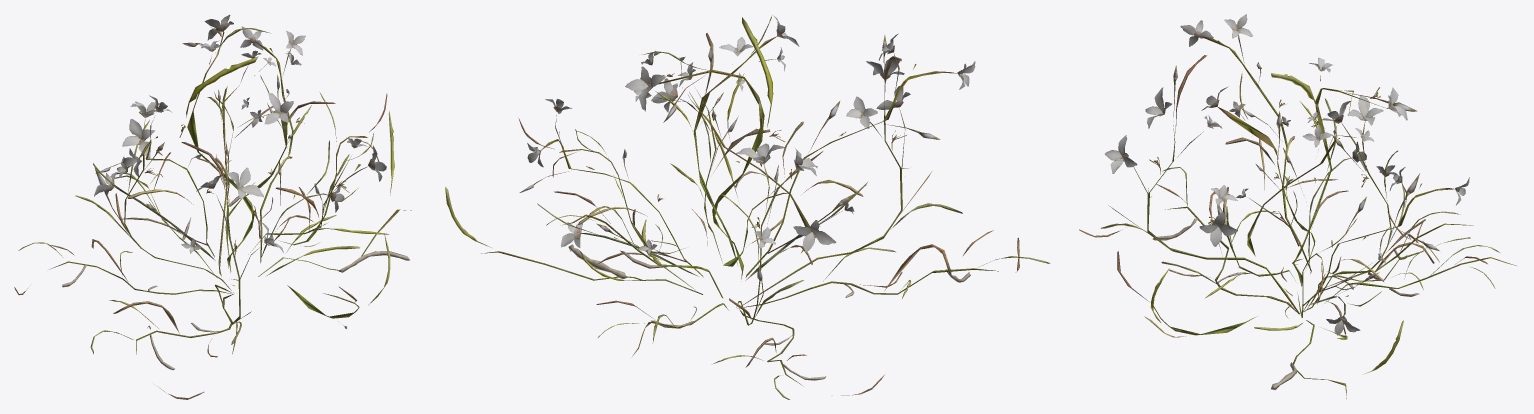
Rendered from flower_heliophila_medium.gltf.
3 renders of one model, left to right at view 1: azimuth 30°, elevation 25°; view 2: azimuth 150°, elevation 25°; view 3: azimuth 270°, elevation 25°, orthographic. The views are drawn at different scales.
Parts seen in each view (by area): view 1: flower_heliophila_medium__x; view 2: flower_heliophila_medium__x; view 3: flower_heliophila_medium__x.
Part boxes in pixels (<box>): flower_heliophila_medium__x: <box>14,14,411,399</box>; flower_heliophila_medium__x: <box>445,15,1050,399</box>; flower_heliophila_medium__x: <box>1079,14,1516,398</box>.
Bounding box in the file's own units: 0.653 × 0.3748 × 0.596.
1 material, 1 textured.
